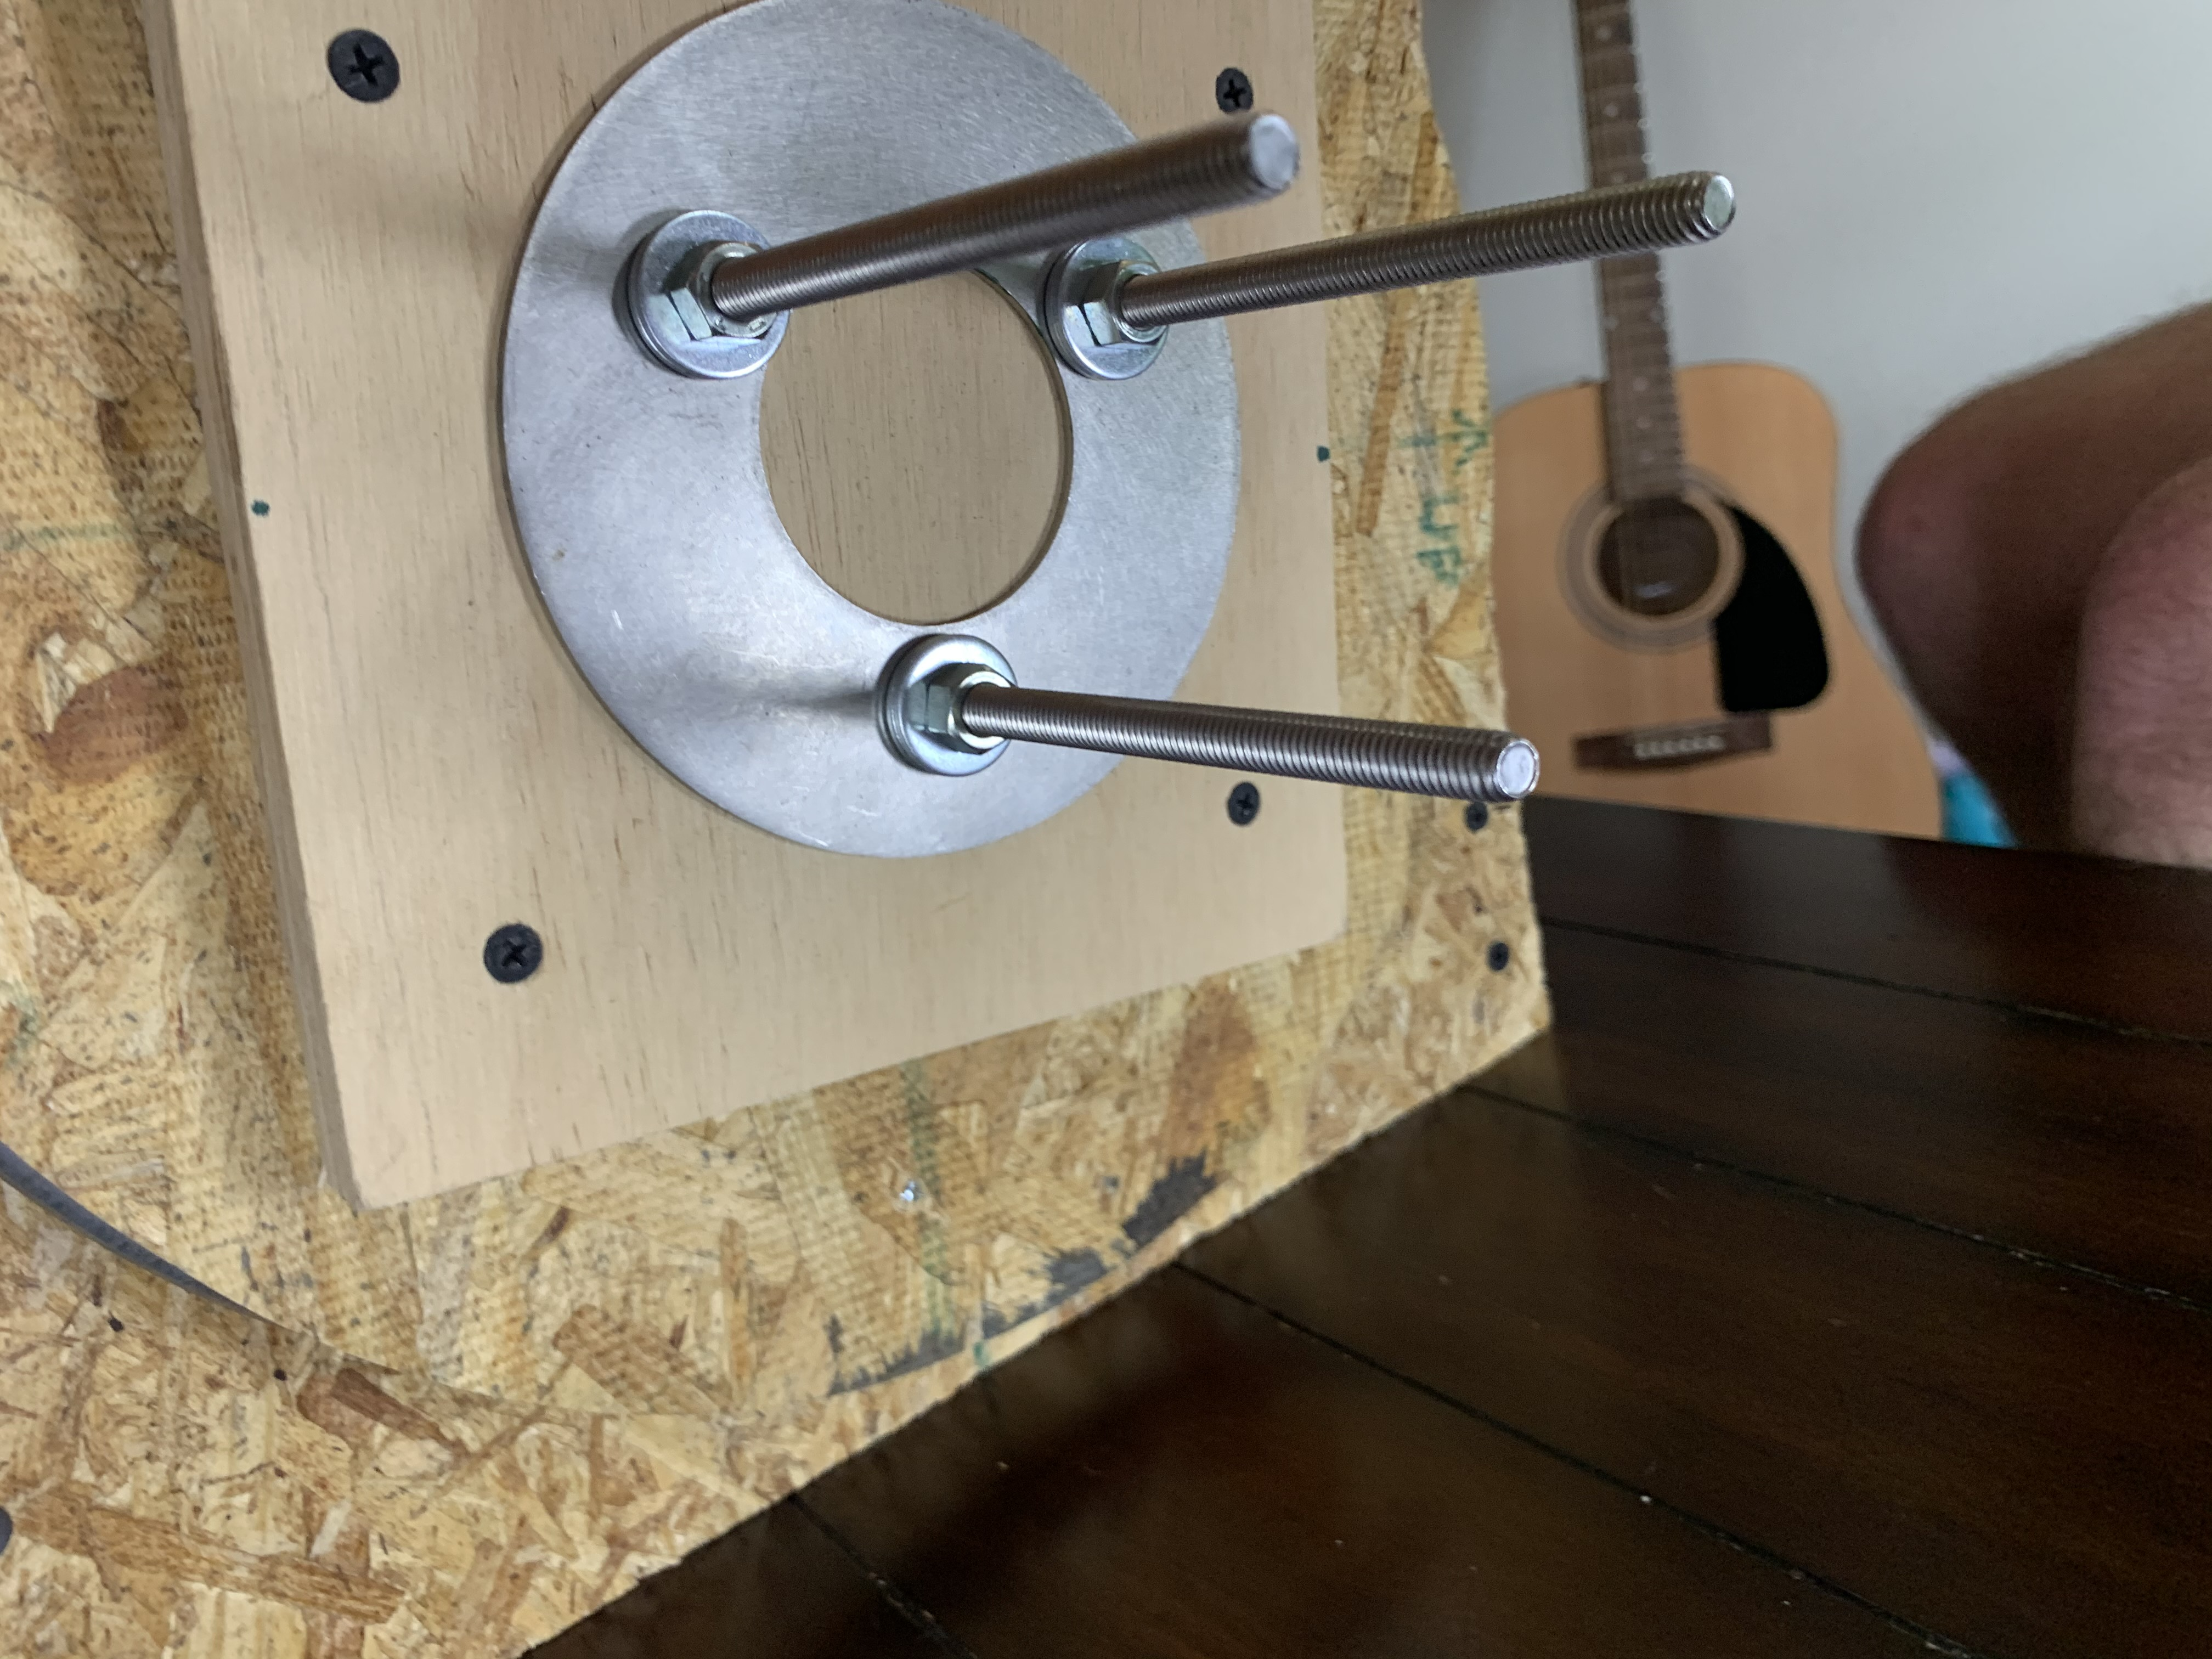bolt: (624, 211, 792, 387), (873, 629, 1022, 781), (1043, 235, 1169, 389)
